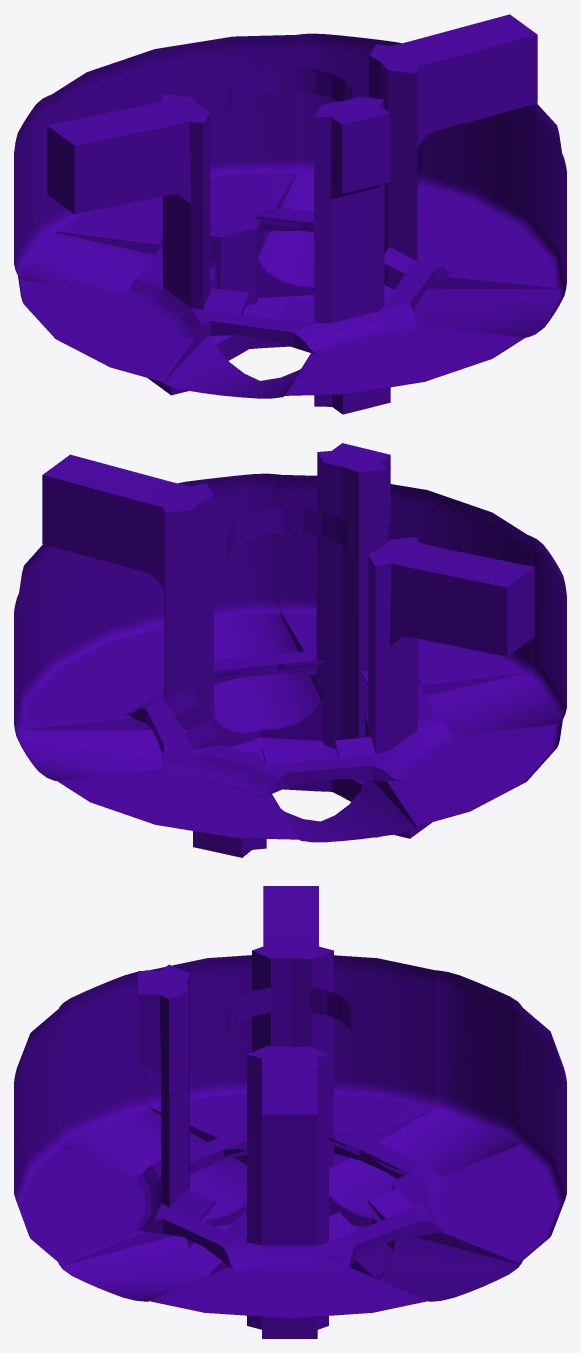
The model's file is Arena_BlockOut61.fbx.
3 views of the same model, one above another, from view 1: azimuth 30°, elevation 25°; view 2: azimuth 150°, elevation 25°; view 3: azimuth 270°, elevation 25° (orthographic).
Visible parts, largest first — view 1: polySurface8, Column_Base9, polySurface7, polySurface1, polySurface6, polySurface4, polySurface5; view 2: polySurface8, Column_Base9, polySurface4, polySurface5, polySurface1, polySurface6, polySurface7; view 3: polySurface8, Column_Base9, polySurface5, polySurface6, polySurface4, polySurface7, polySurface1.
Part boxes in pixels (left/top/right/bottom): polySurface8: left=14, top=33, right=566, bottom=398; Column_Base9: left=47, top=14, right=537, bottom=414; polySurface7: left=171, top=288, right=341, bottom=354; polySurface1: left=210, top=216, right=263, bottom=306; polySurface6: left=379, top=247, right=452, bottom=332; polySurface4: left=122, top=227, right=211, bottom=306; polySurface5: left=247, top=208, right=313, bottom=232; polySurface8: left=14, top=473, right=566, bottom=842; Column_Base9: left=42, top=443, right=534, bottom=838; polySurface4: left=242, top=737, right=409, bottom=797; polySurface5: left=123, top=687, right=218, bottom=777; polySurface1: left=193, top=745, right=266, bottom=857; polySurface6: left=214, top=652, right=323, bottom=684; polySurface7: left=360, top=670, right=458, bottom=748; polySurface8: left=14, top=955, right=566, bottom=1318; Column_Base9: left=138, top=886, right=333, bottom=1338; polySurface5: left=317, top=1189, right=449, bottom=1272; polySurface6: left=134, top=1189, right=261, bottom=1271; polySurface4: left=329, top=1133, right=449, bottom=1190; polySurface7: left=131, top=1134, right=246, bottom=1193; polySurface1: left=392, top=1172, right=444, bottom=1250.
Bounding box in the file's own units: 54279 × 34455 × 54279.
